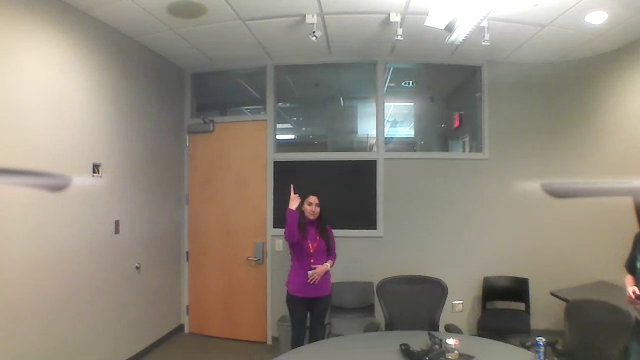up: (285, 180, 302, 213)
